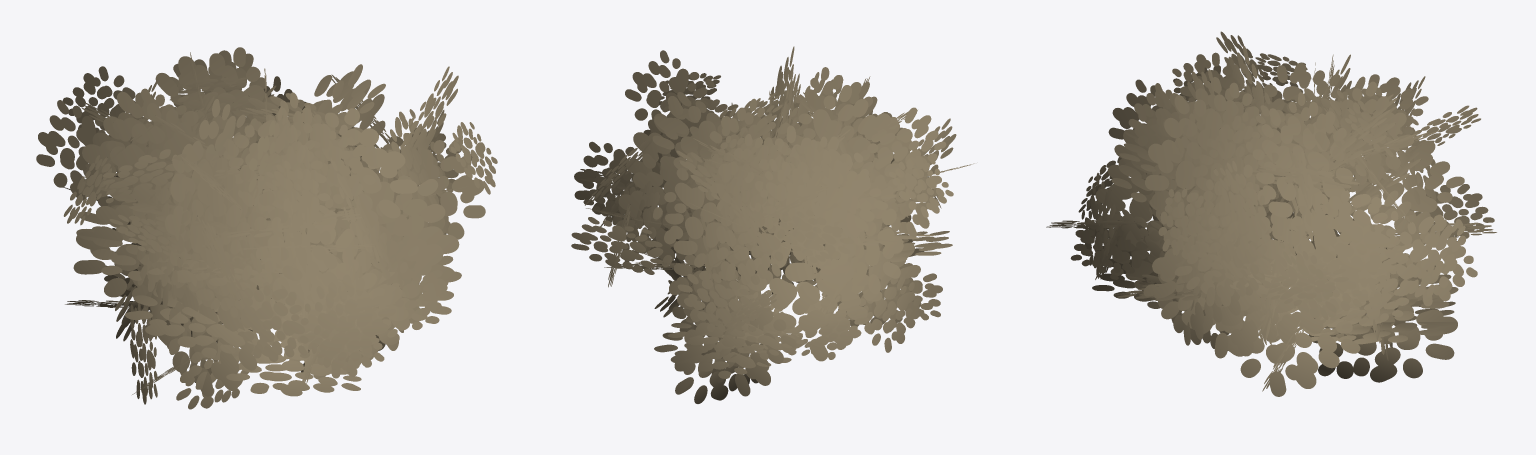
File: shrub_dead.gltf
3 renders of one model, left to right at view 1: azimuth 30°, elevation 25°; view 2: azimuth 150°, elevation 25°; view 3: azimuth 270°, elevation 25°, orthographic. The views are drawn at different scales.
Parts seen in each view (by area): view 1: shrub_dead; view 2: shrub_dead; view 3: shrub_dead.
Boxes of the visible parts, x1,y1,x2,y2 form: shrub_dead: (36,47,497,409); shrub_dead: (571,46,974,403); shrub_dead: (1046,31,1496,396).
Bounding box in the file's own units: 0.8739 × 0.7387 × 0.9265.
1 material, 1 textured.
